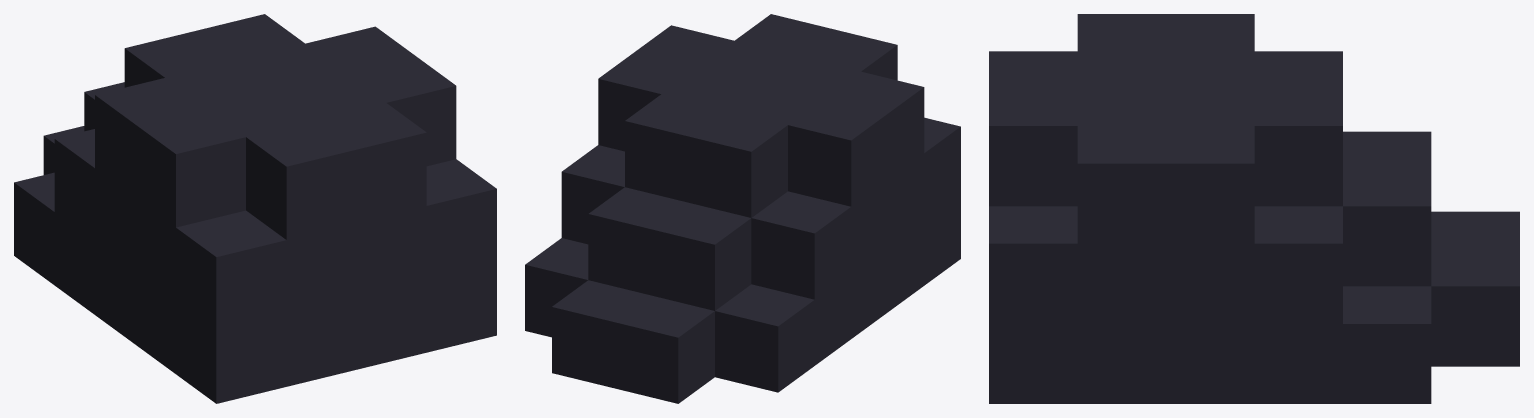
File: Radist-2.obj
The picture shows the model from 3 angles, left to right: view 1: azimuth 30°, elevation 25°; view 2: azimuth 150°, elevation 25°; view 3: azimuth 270°, elevation 25°; orthographic projection. The views are drawn at different scales.
Size of the model in its own units: 0.4 by 0.3 by 0.6.
Materials: 1 (1 with a texture image).
